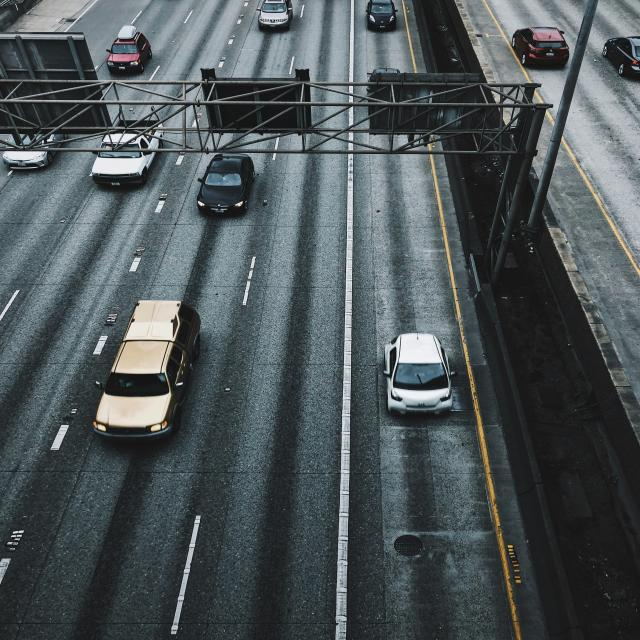Car: (382, 332, 457, 416), (91, 119, 163, 186), (196, 153, 255, 214), (512, 26, 570, 67), (0, 132, 62, 169), (106, 25, 152, 72), (602, 36, 640, 76), (256, 0, 293, 29), (366, 0, 398, 30)
MiniBus: (91, 298, 201, 442)
